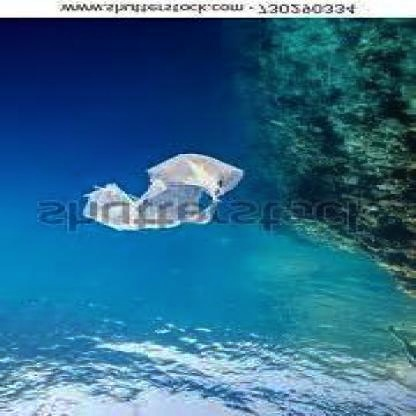pbag: (79, 151, 247, 234)
